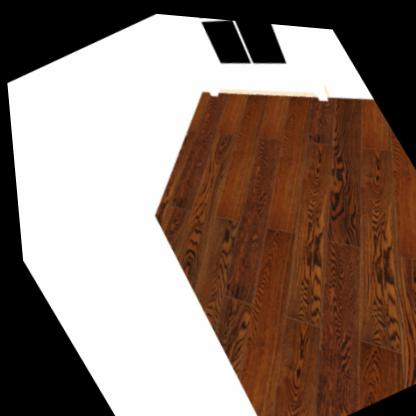Wooden floor: (152, 87, 416, 416)
